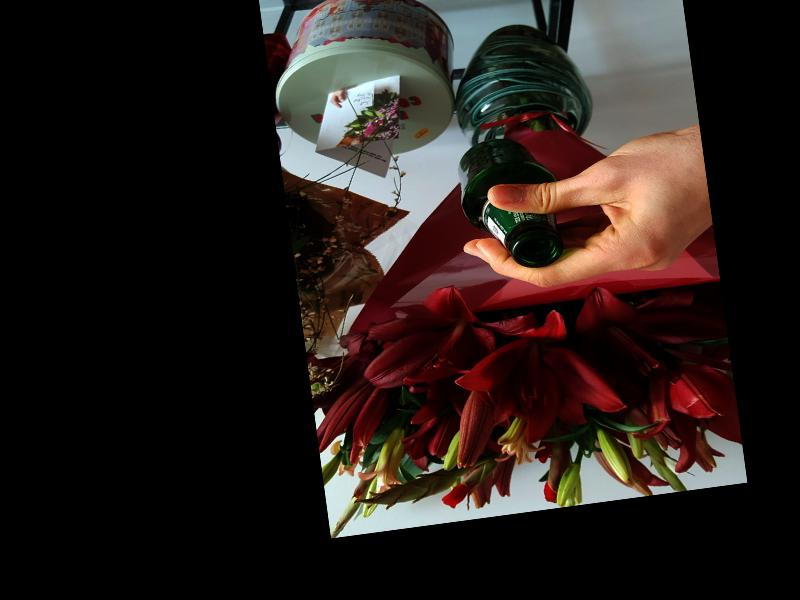Beer: (454, 131, 568, 276)
